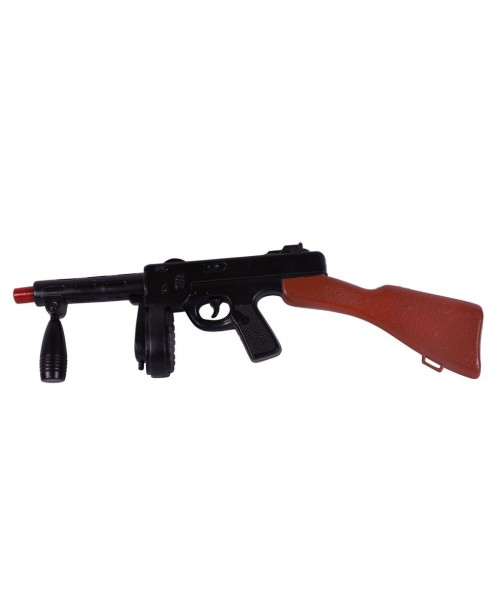Arma Falsa: (11, 242, 485, 385)
